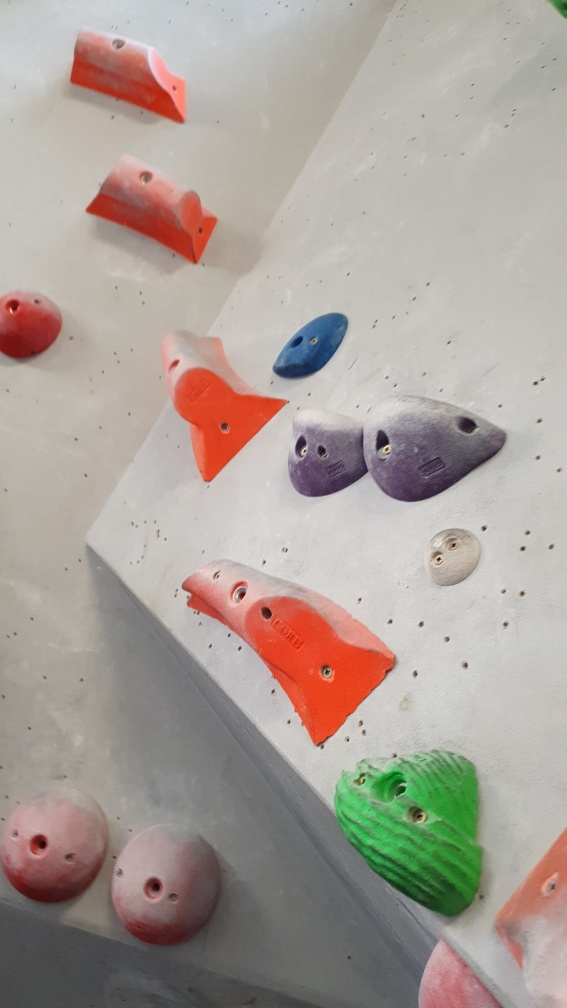Crimp: (273, 311, 348, 374)
Jug: (335, 745, 487, 929), (362, 393, 505, 495), (286, 401, 375, 499)
Pinch: (180, 554, 394, 751), (160, 329, 288, 487), (83, 151, 217, 267), (67, 22, 190, 127)
Sloper: (111, 821, 231, 942), (1, 783, 111, 907), (1, 281, 67, 363)
